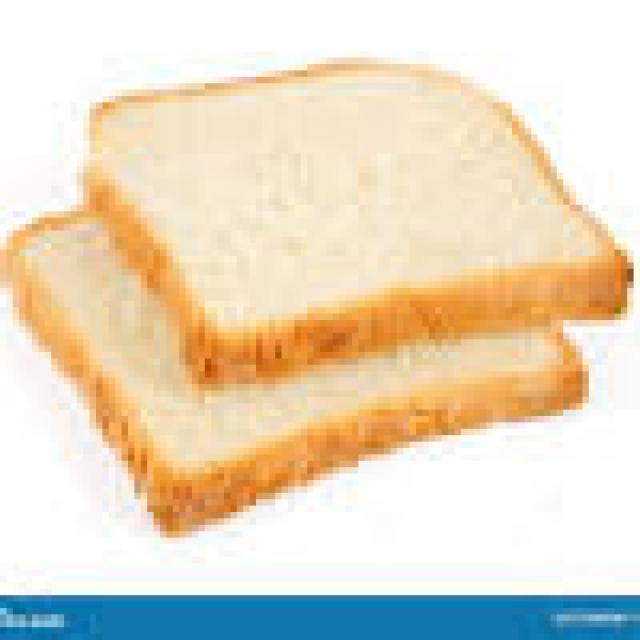Bread: (11, 219, 582, 529), (89, 65, 629, 381)
